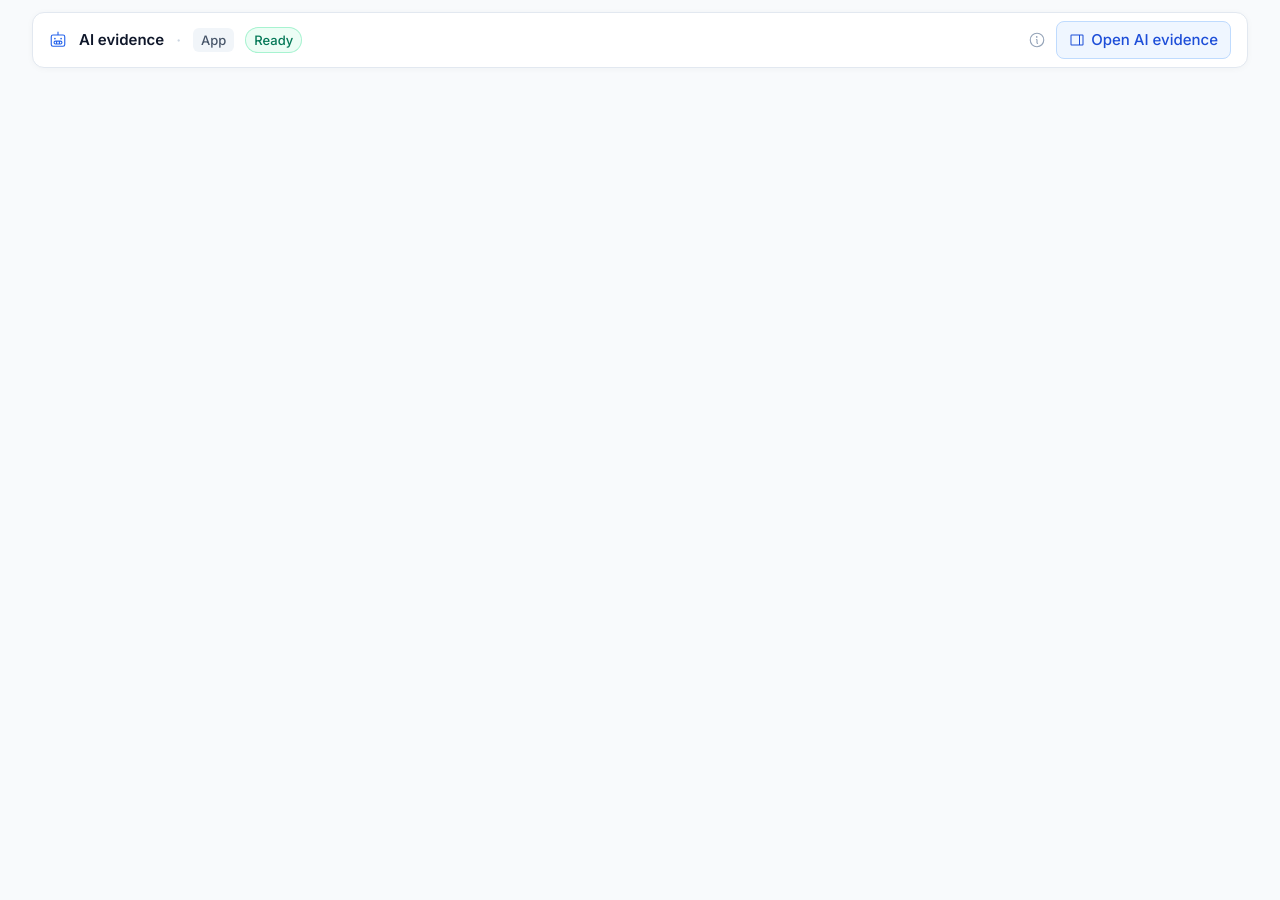
Test: the set-up step › folds a complete app set-up into one line with an Edit button
Click the button "Open AI evidence": (1144, 40) 1056,21 -> 1231,59
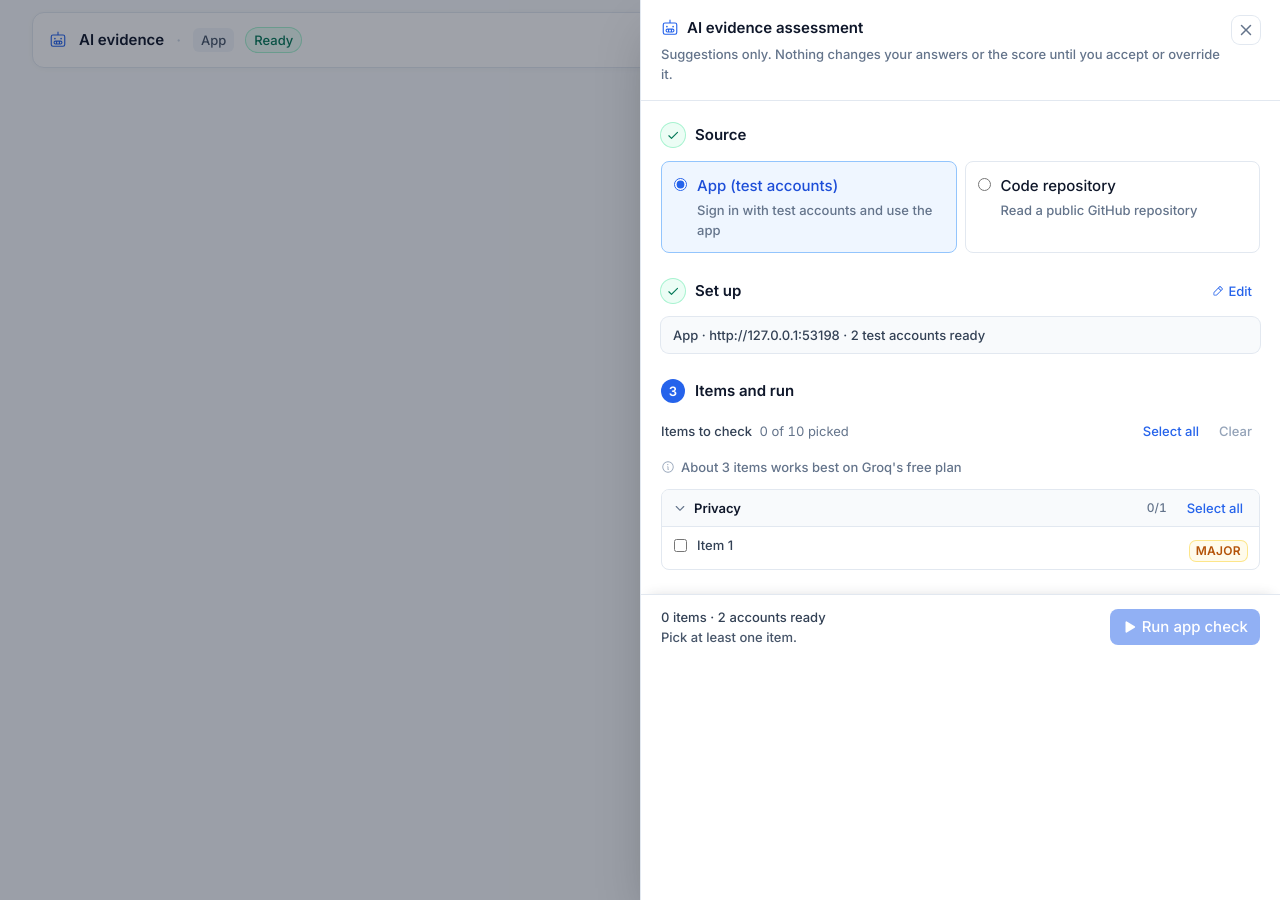
Expected: the field labelled "App address" is not shown
Expected: the text "http://127.0.0.1:53198" reads "App · http://127.0.0.1:53198 · 2 test accounts ready", 661,317 -> 1260,353
Click the button with aria-label "Edit set-up": (1232, 291) 1204,277 -> 1260,305
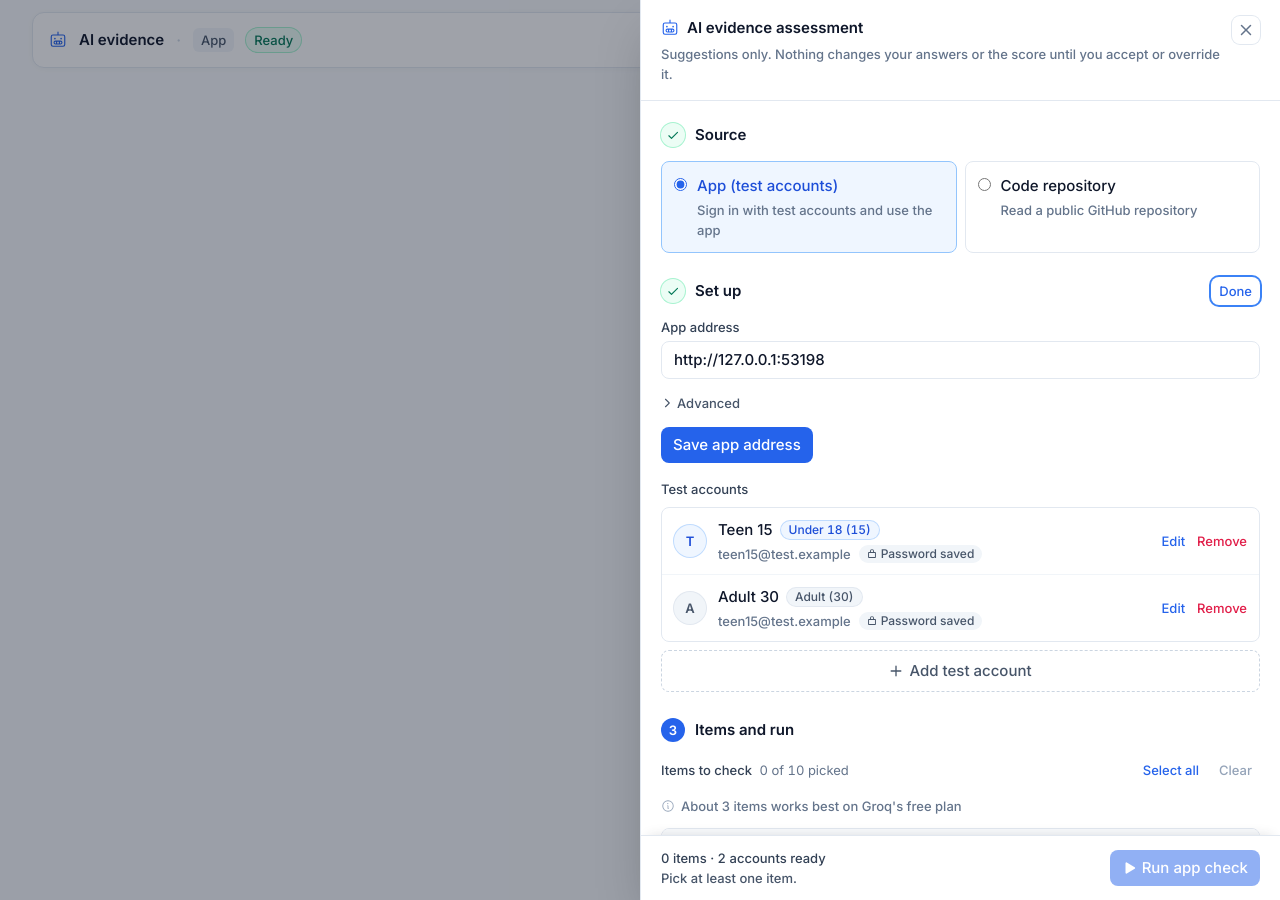
Expected: the field labelled "App address" holds "http://127.0.0.1:53198", 661,341 -> 1260,379
Expected: the button with aria-label "Done editing set-up" is expanded
Click the button with aria-label "Done editing set-up": (1236, 291) 1211,277 -> 1260,305
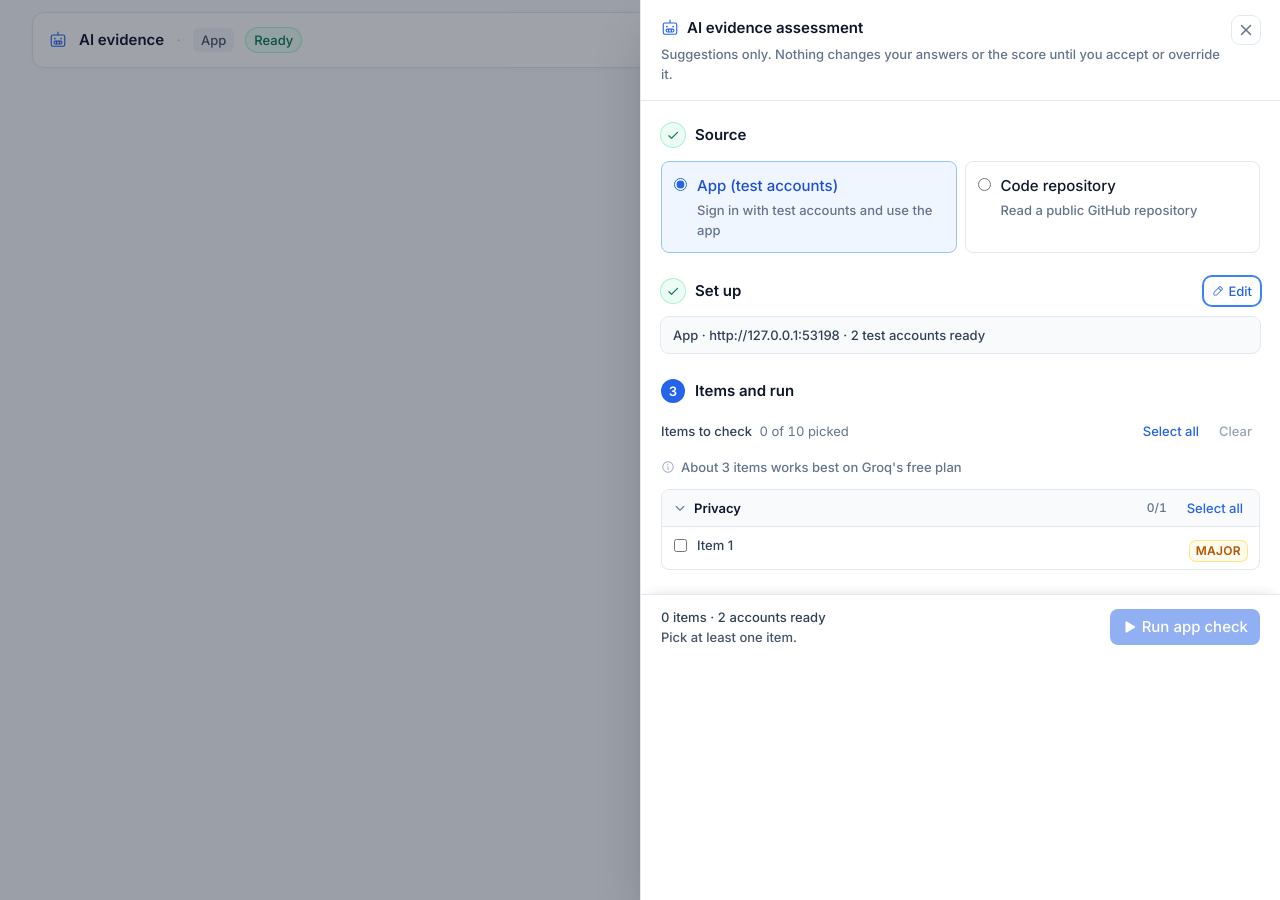
Expected: the label labelled "App address" is gone
